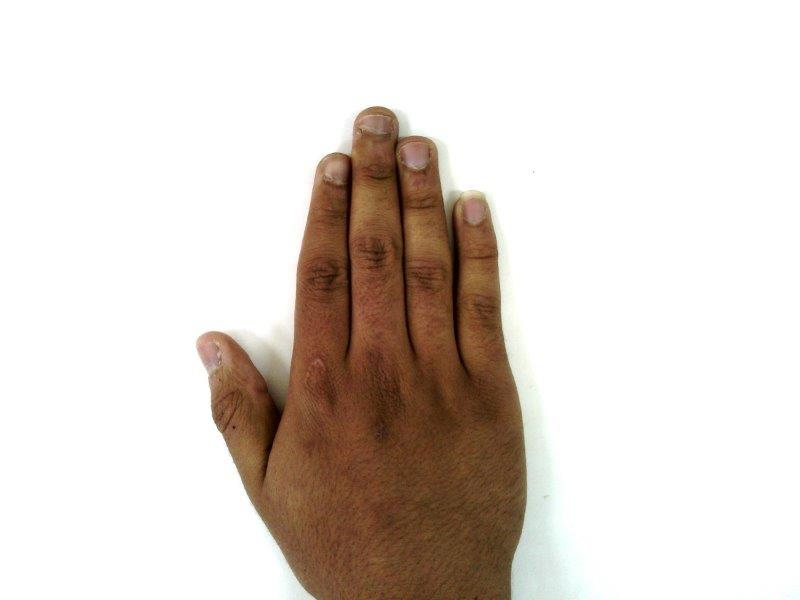hand: (195, 108, 530, 591)
